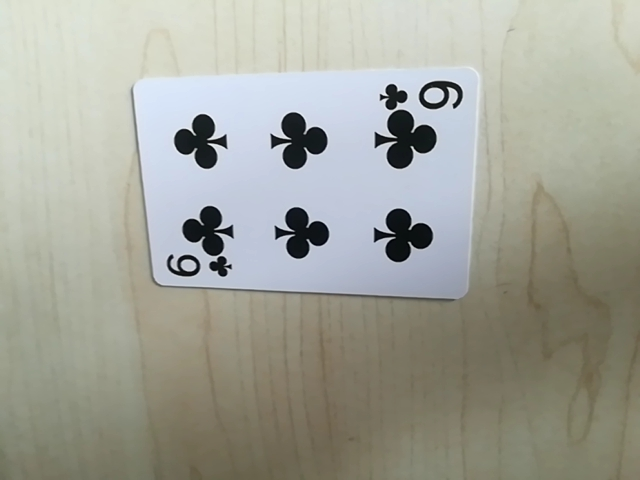mh 6: (377, 77, 463, 116), (160, 252, 232, 286)
